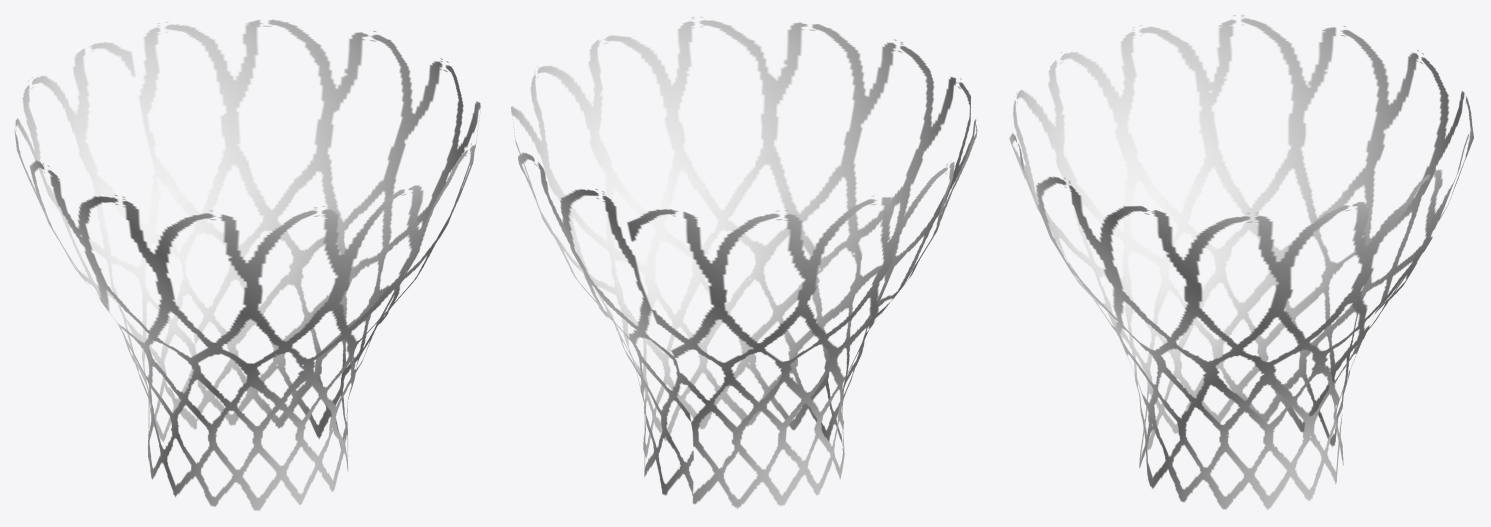
Rendered from basketballNet-528bd868.glb.
3 renders of one model, left to right at view 1: azimuth 30°, elevation 25°; view 2: azimuth 150°, elevation 25°; view 3: azimuth 270°, elevation 25°, orthographic.
Parts seen in each view (by area): view 1: SM_Red-VAT; view 2: SM_Red-VAT; view 3: SM_Red-VAT.
Boxes of the visible parts, box(x1,y1,x2,y2) form: SM_Red-VAT: box(14, 19, 480, 510); SM_Red-VAT: box(511, 16, 977, 508); SM_Red-VAT: box(1009, 15, 1473, 510).
Size of the model in its own units: 0.4572 by 0.3818 by 0.4572.
Materials: 1 (1 with a texture image).
